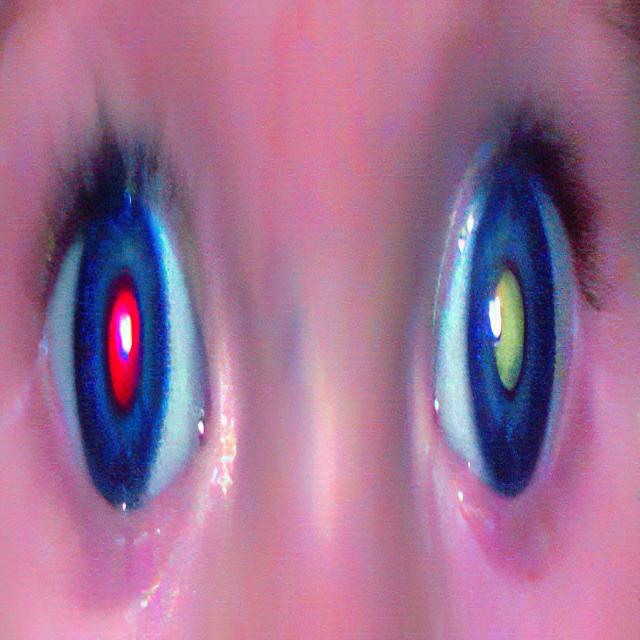reflexo-alterado: (434, 95, 603, 622)
reflexo-normal: (34, 154, 203, 556)
